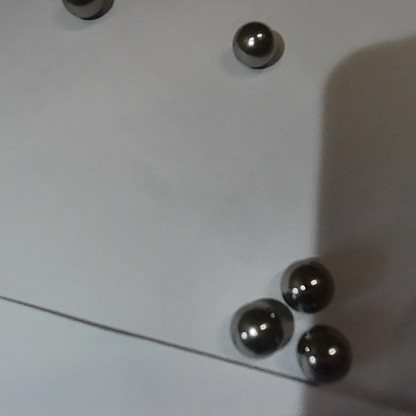ironball: (297, 324, 358, 389), (276, 254, 337, 314), (231, 303, 282, 362), (227, 20, 278, 68), (56, 0, 123, 27)
